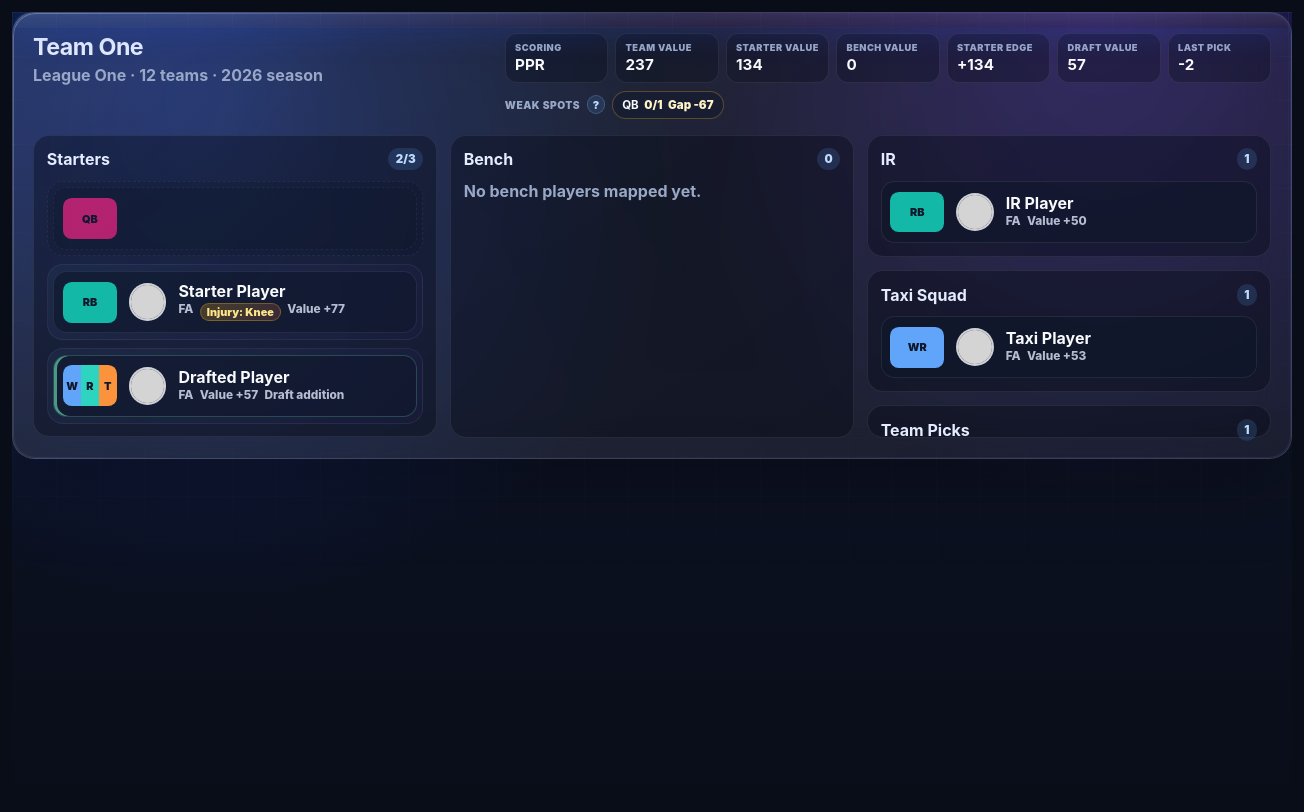
LockerRoomModule › labels taxi squad player insights with the taxi role
The width and height of the screenshot is (1304, 812).
Click the button "WR Taxi Player FA Value +53" at (1069, 347), box [881, 316, 1257, 378]
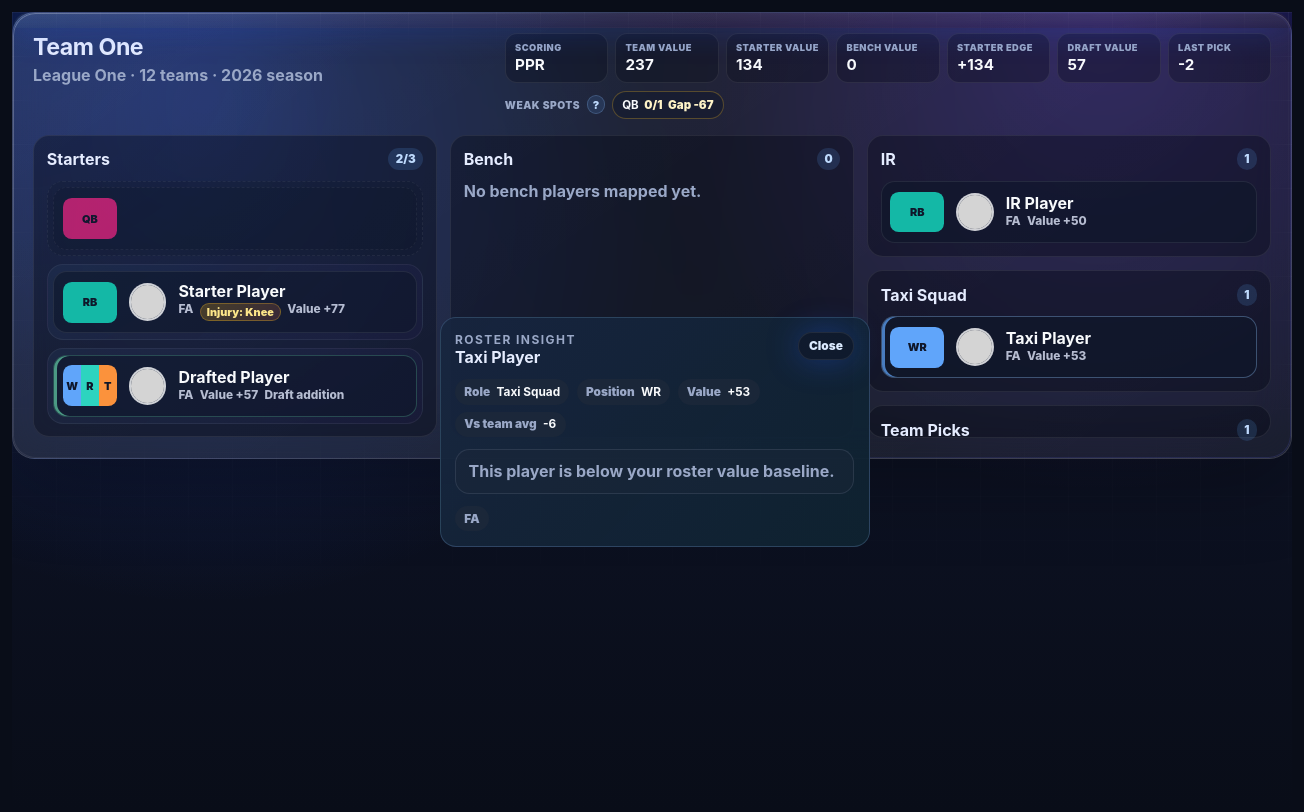
Check: the text "Roster Insight" is shown, box [455, 332, 576, 347]
Check: the text "Taxi Squad" is shown, box [496, 385, 560, 399]
